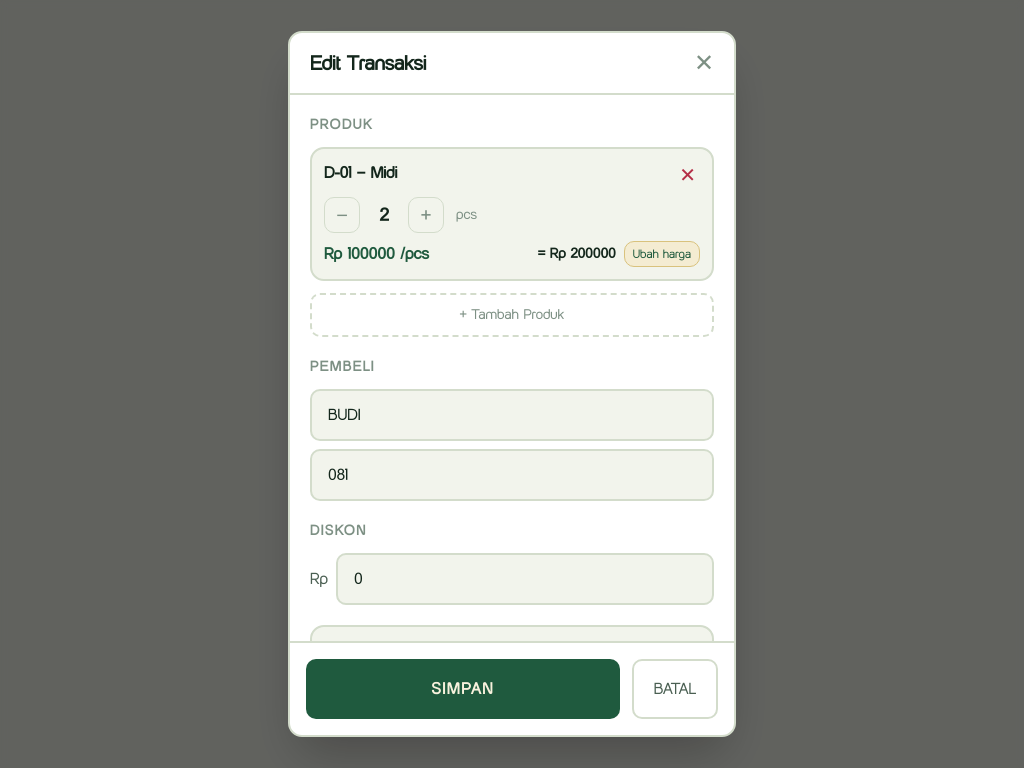
EditSaleModal › decrements simple item qty from 2 to 1
This screenshot has width=1024, height=768.
Click the button "−". click: (342, 215)
box: [324, 197, 360, 233]
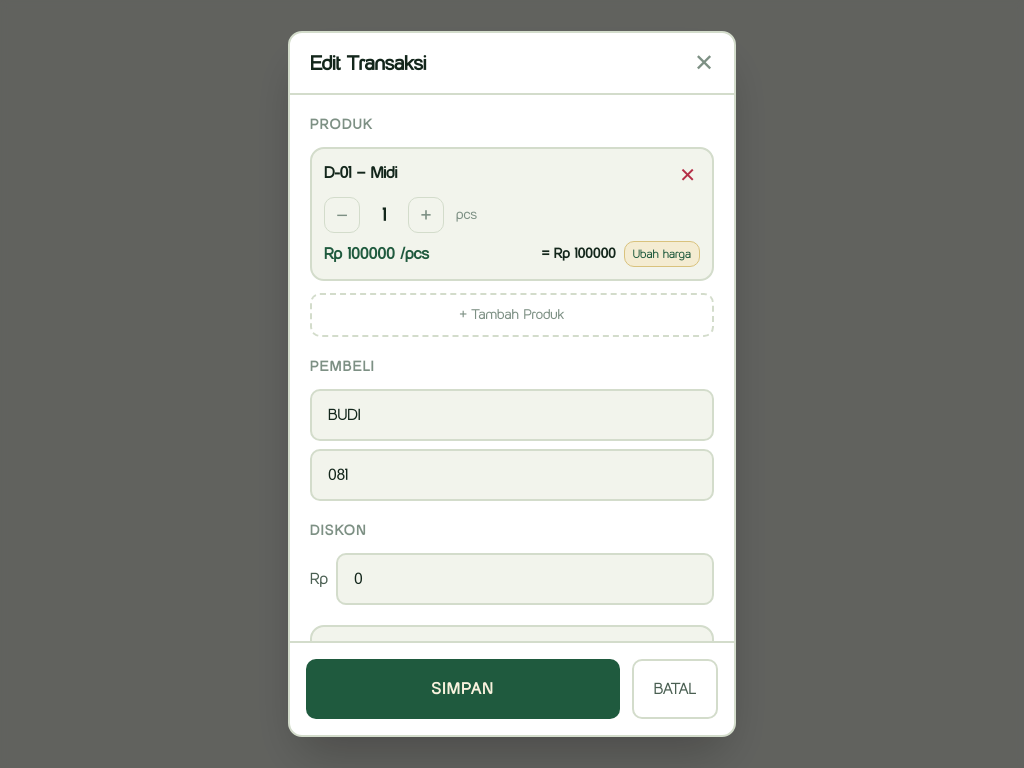
Expected: the text "1" is shown, [382, 204, 386, 226]
